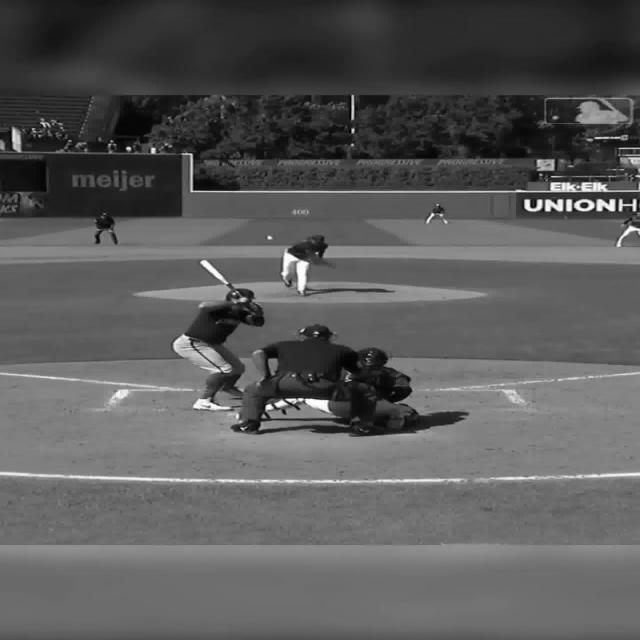baseball: (265, 235, 273, 240)
bat: (198, 259, 236, 292)
shoe: (386, 409, 418, 430), (192, 398, 232, 411), (230, 419, 260, 434), (349, 418, 373, 436), (221, 386, 243, 399), (385, 416, 405, 430), (404, 408, 418, 425), (284, 279, 292, 287), (296, 290, 306, 296)
